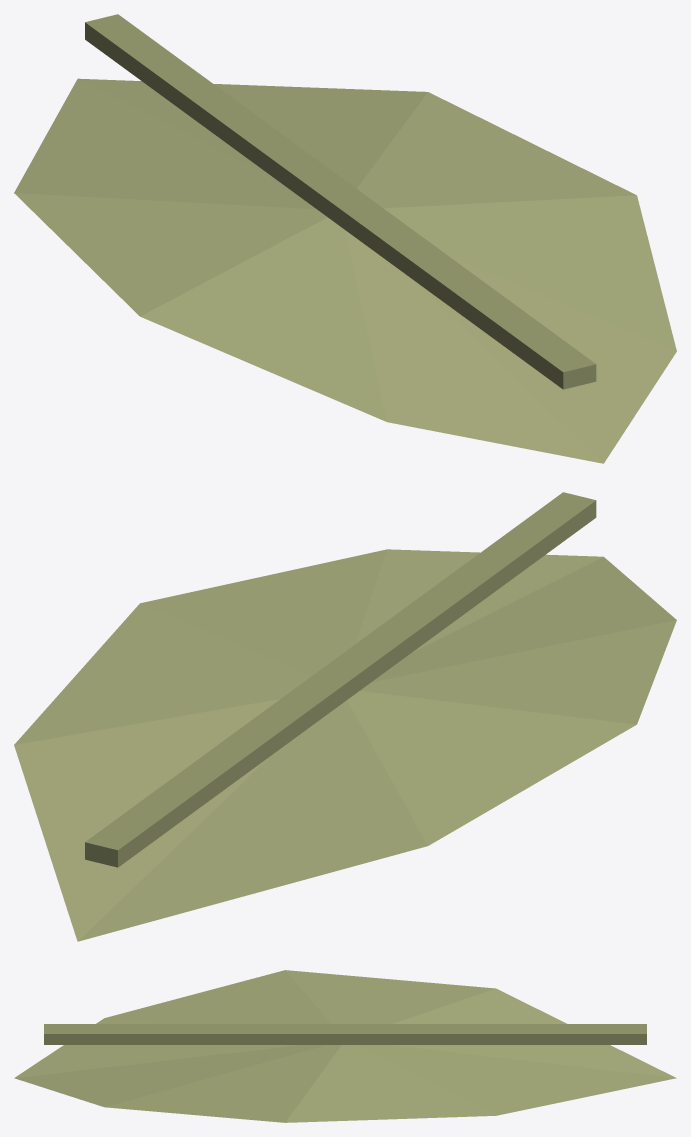
Rendered from dry_leaf_3.gltf.
3 renders of one model, top to bottom at view 1: azimuth 30°, elevation 25°; view 2: azimuth 150°, elevation 25°; view 3: azimuth 270°, elevation 25°, orthographic. The views are drawn at different scales.
Visible parts, largest first — view 1: dry_leaf_3; view 2: dry_leaf_3; view 3: dry_leaf_3.
Boxes of the visible parts, box(x1,y1,x2,y2) form: dry_leaf_3: box(14, 14, 676, 463); dry_leaf_3: box(14, 492, 676, 941); dry_leaf_3: box(14, 970, 676, 1122).
Bounding box in the file's own units: 0.12 × 0.018 × 0.22.
